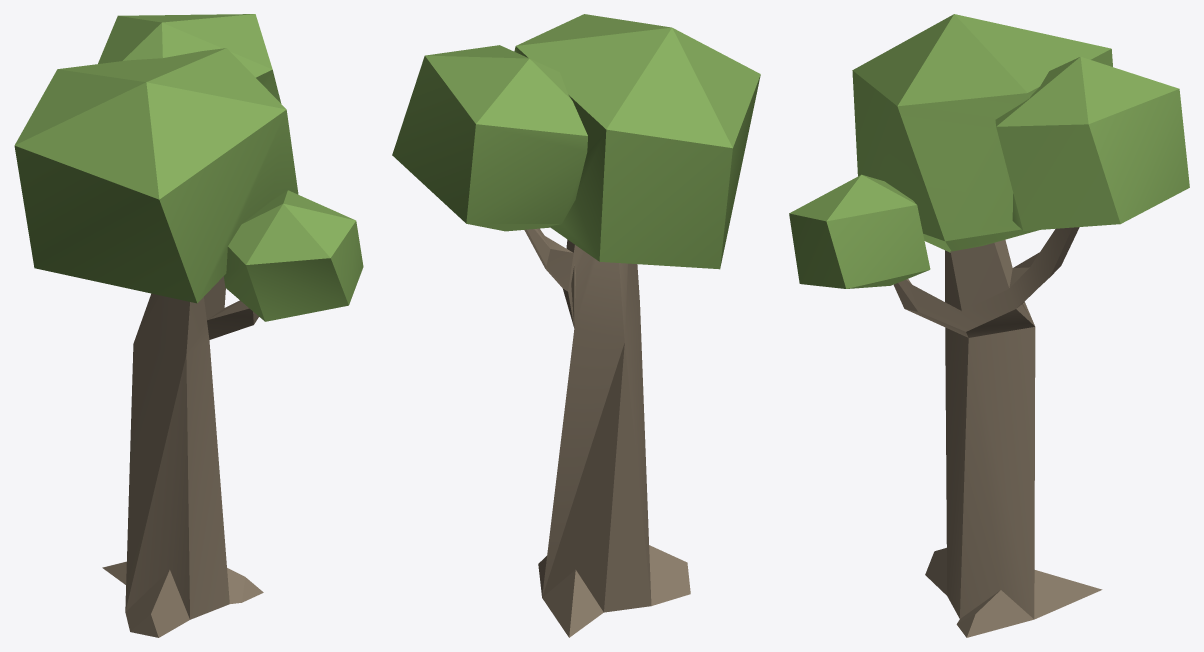
Rendered from treeCommon.dae.
The picture shows the model from 3 angles, left to right: view 1: azimuth 30°, elevation 25°; view 2: azimuth 150°, elevation 25°; view 3: azimuth 270°, elevation 25°; orthographic projection. The views are drawn at different scales.
Parts seen in each view (by area): view 1: Tree_Common_02; view 2: Tree_Common_02; view 3: Tree_Common_02.
Part boxes in pixels (<box>): Tree_Common_02: <box>14,14,363,637</box>; Tree_Common_02: <box>392,14,760,637</box>; Tree_Common_02: <box>789,14,1189,637</box>.
Bounding box in the file's own units: 260 × 474 × 307.
